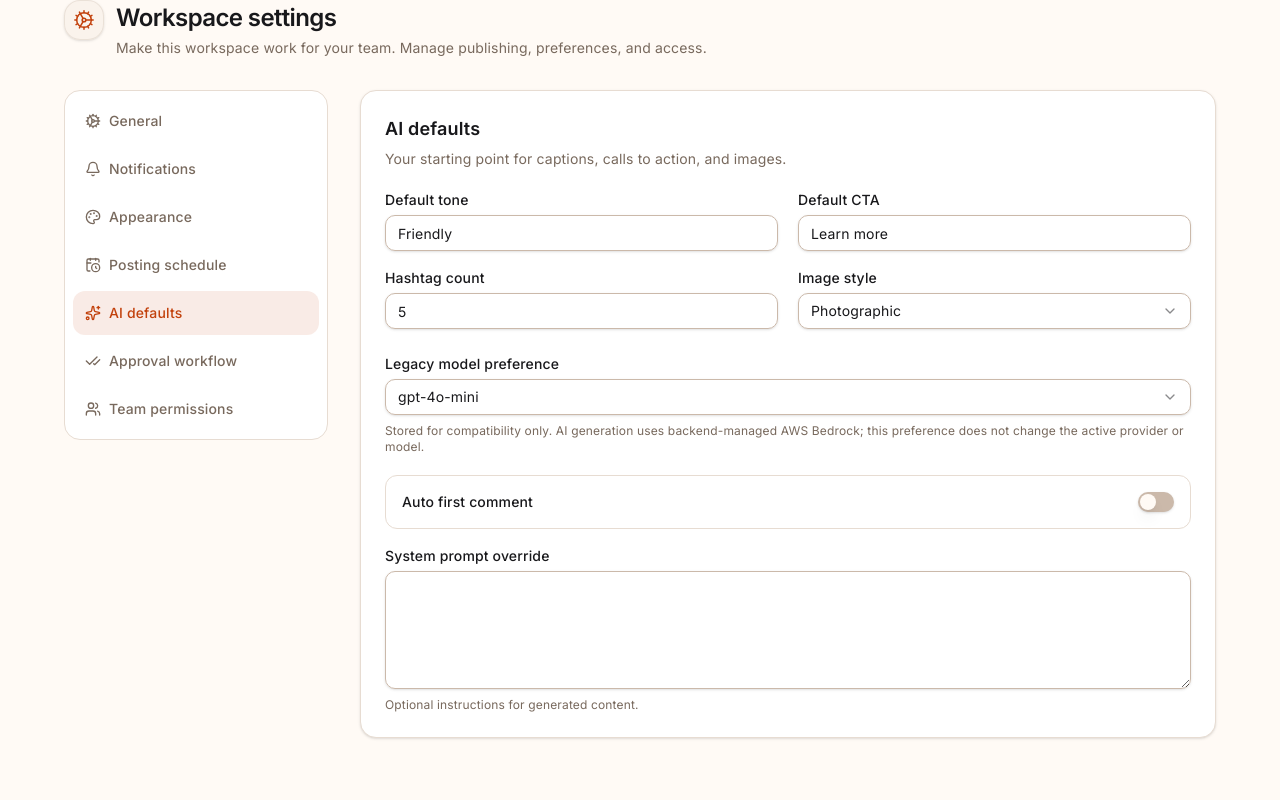
Test: SettingsPage › edits and saves settings and removes the clean footer
This screenshot has width=1280, height=800.
Replace the text in the field labelled "Default tone" with "Warm" at (582, 233), box [385, 215, 778, 251]
(page scrolled)
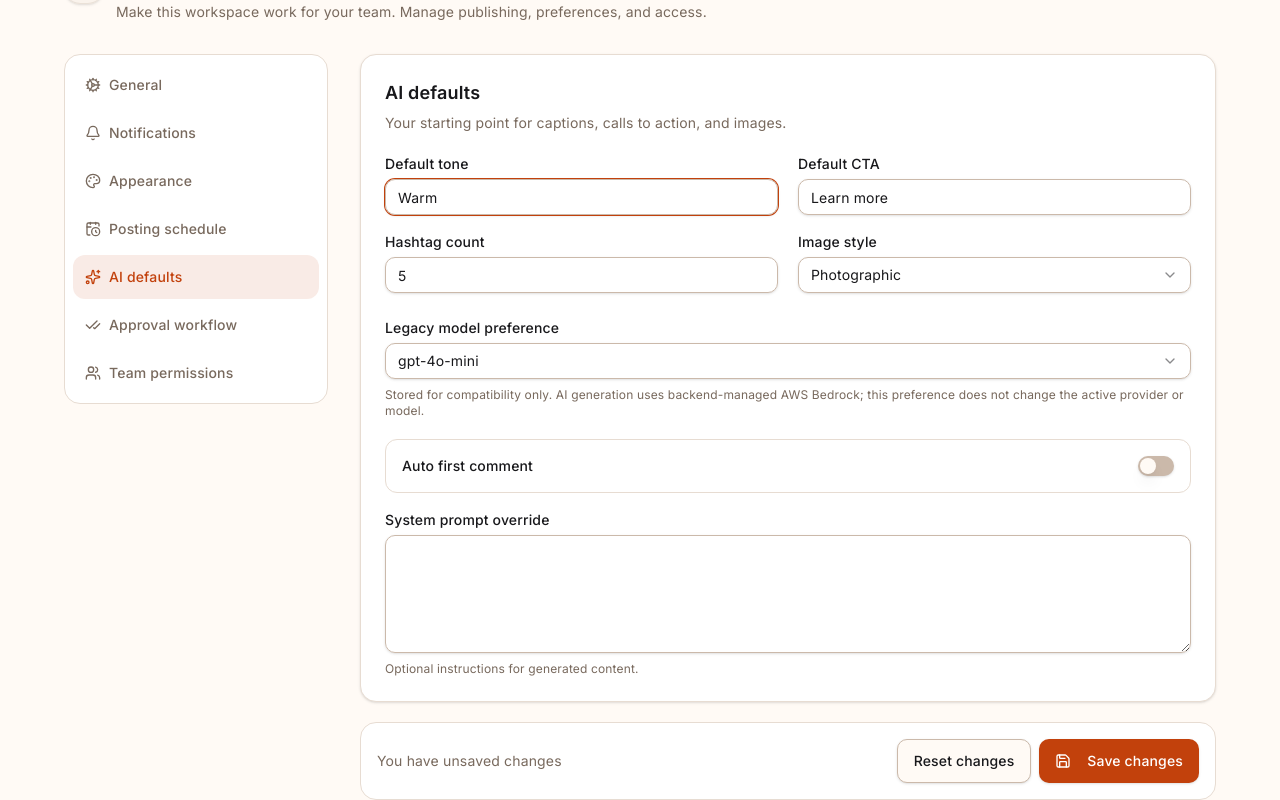
Click the button "Save changes" at (1119, 761), box [1039, 739, 1199, 783]
(page scrolled)
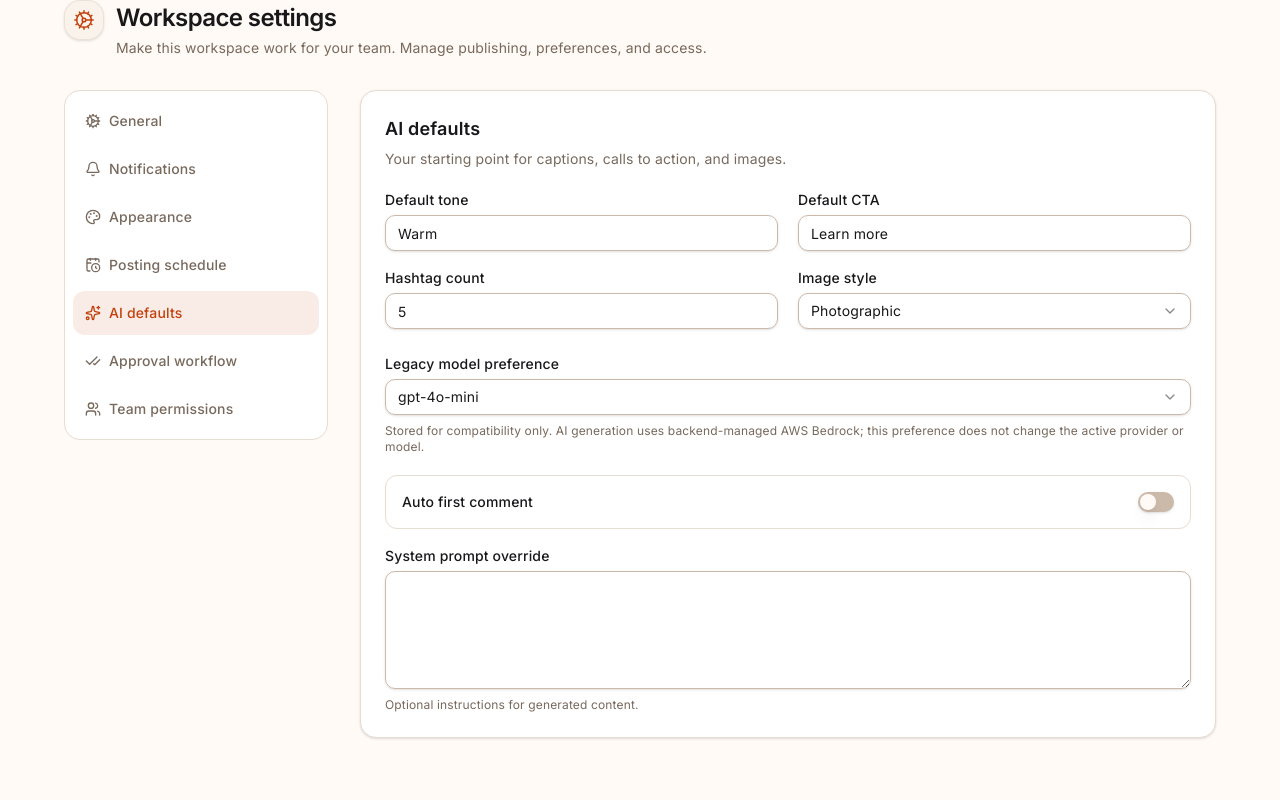
Check: the button "Reset changes" is gone
